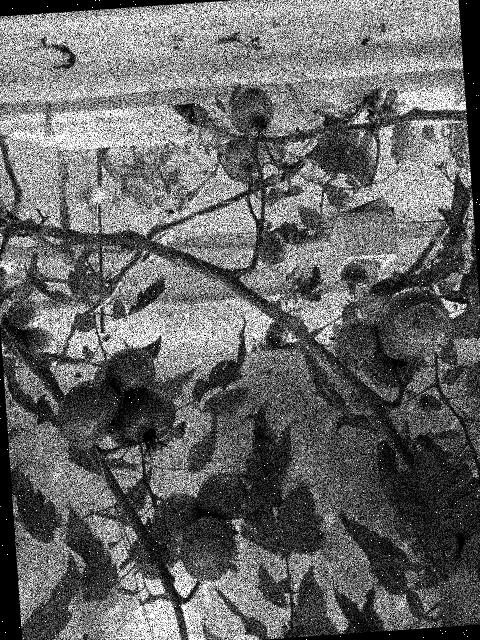b_fully_ripened: (373, 285, 447, 361), (53, 376, 123, 450), (106, 385, 179, 450), (339, 261, 369, 289), (0, 247, 15, 274)
b_green: (150, 491, 207, 554), (392, 301, 453, 359), (194, 470, 250, 526), (101, 345, 157, 397), (220, 133, 265, 179), (133, 538, 174, 582), (5, 297, 46, 332), (76, 181, 105, 207)
b_half_ripened: (177, 513, 239, 584), (361, 339, 423, 390), (332, 316, 380, 370), (228, 86, 275, 134), (22, 327, 57, 355)
